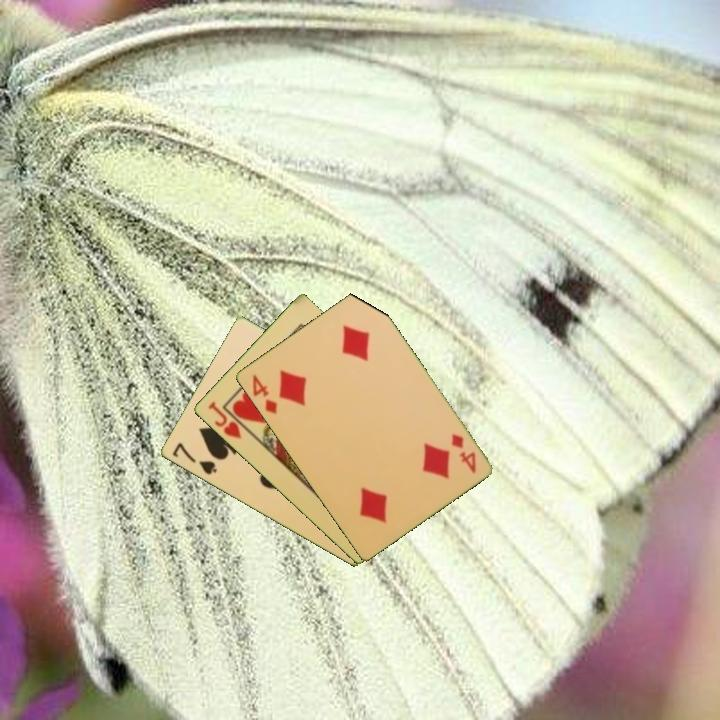4d: (248, 370, 280, 417), (447, 430, 479, 476)
7s: (168, 439, 220, 478)
Jh: (204, 398, 244, 442)
